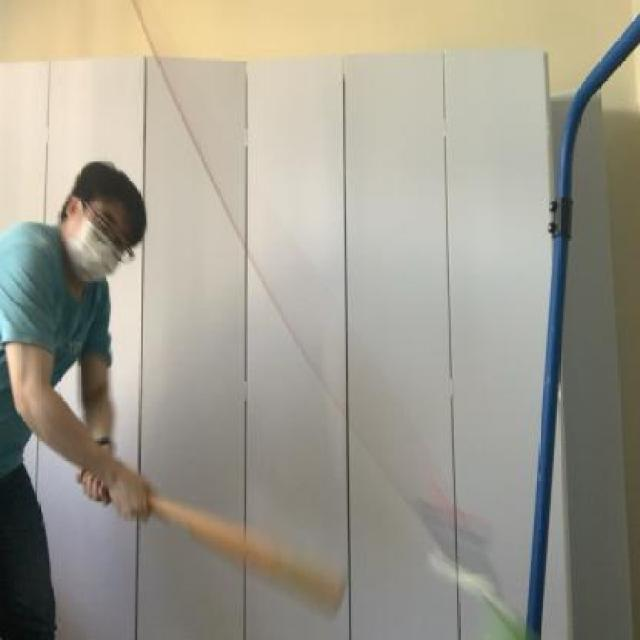baseball: (486, 598, 543, 640)
